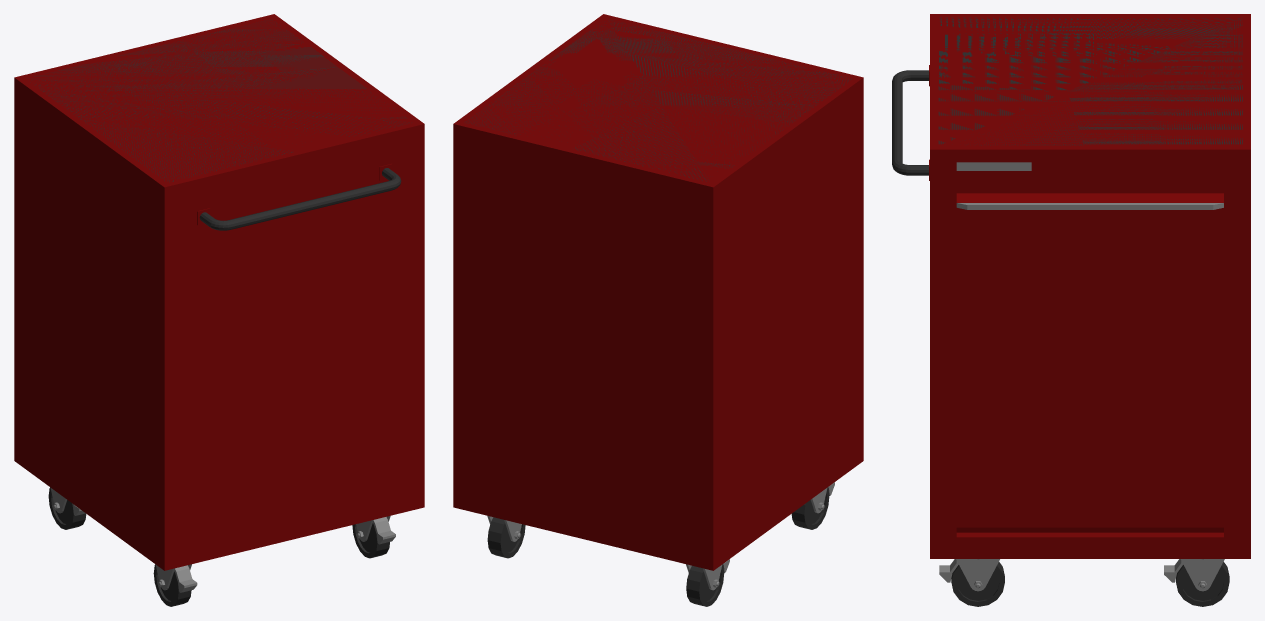
The picture shows the model from 3 angles, left to right: view 1: azimuth 30°, elevation 25°; view 2: azimuth 150°, elevation 25°; view 3: azimuth 270°, elevation 25°; orthographic projection. The views are drawn at different scales.
Parts seen in each view (by area): view 1: mesh1_mesh1-geometry, mesh54_mesh54-geometry, mesh25_mesh25-geometry, mesh47_mesh47-geometry, mesh36_mesh36-geometry; view 2: mesh1_mesh1-geometry, mesh36_mesh36-geometry, mesh15_mesh15-geometry, mesh25_mesh25-geometry; view 3: mesh8_mesh8-geometry, mesh1_mesh1-geometry, mesh9_mesh9-geometry, mesh5_mesh5-geometry, mesh54_mesh54-geometry, mesh15_mesh15-geometry, mesh47_mesh47-geometry, mesh44_mesh44-geometry, mesh13_mesh13-geometry, mesh6_mesh6-geometry.
Boxes of the visible parts, <box> form: mesh1_mesh1-geometry: <box>14,14,424,570</box>; mesh54_mesh54-geometry: <box>199,168,401,230</box>; mesh25_mesh25-geometry: <box>153,564,191,606</box>; mesh47_mesh47-geometry: <box>352,522,389,558</box>; mesh36_mesh36-geometry: <box>48,487,86,529</box>; mesh1_mesh1-geometry: <box>453,14,863,570</box>; mesh36_mesh36-geometry: <box>686,564,724,606</box>; mesh15_mesh15-geometry: <box>487,517,525,558</box>; mesh25_mesh25-geometry: <box>791,487,829,529</box>; mesh8_mesh8-geometry: <box>956,208,1223,532</box>; mesh1_mesh1-geometry: <box>930,14,1250,558</box>; mesh9_mesh9-geometry: <box>956,193,1223,202</box>; mesh5_mesh5-geometry: <box>956,203,1223,209</box>; mesh54_mesh54-geometry: <box>892,70,928,175</box>; mesh15_mesh15-geometry: <box>1176,562,1229,606</box>; mesh47_mesh47-geometry: <box>951,562,1004,606</box>; mesh44_mesh44-geometry: <box>956,559,999,591</box>; mesh13_mesh13-geometry: <box>1180,559,1224,591</box>; mesh6_mesh6-geometry: <box>956,162,1031,170</box>.
Size of the model in its own units: 0.4594 by 0.7305 by 0.5053.
